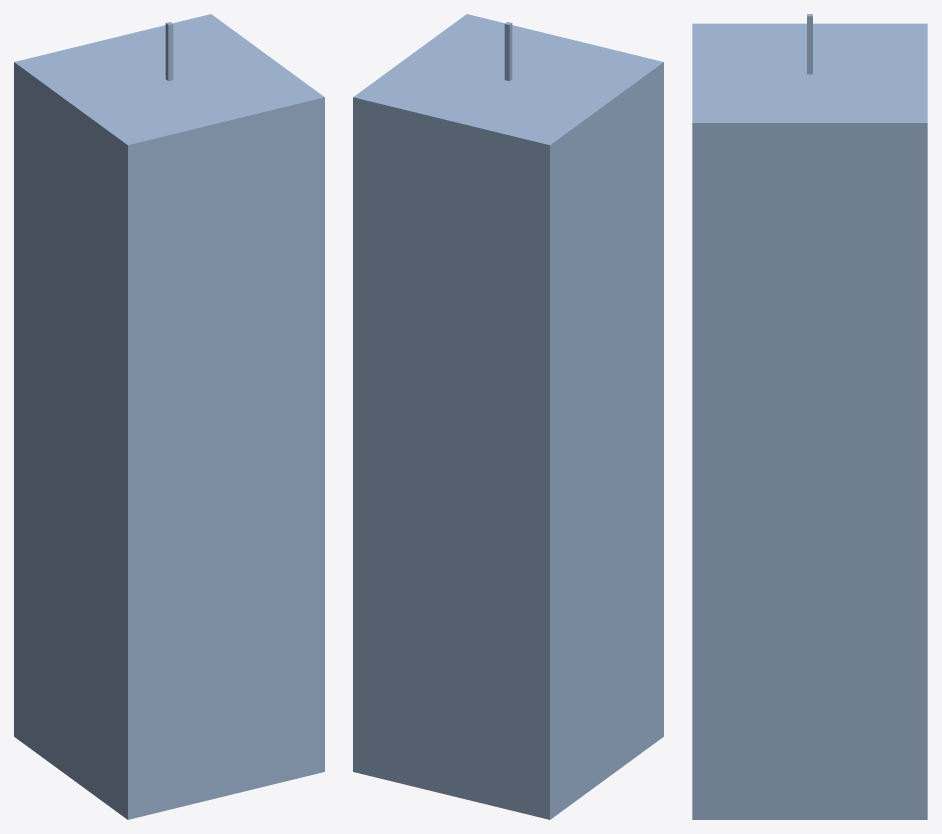
File: sky2_plain.glb
The picture shows the model from 3 angles, left to right: view 1: azimuth 30°, elevation 25°; view 2: azimuth 150°, elevation 25°; view 3: azimuth 270°, elevation 25°; orthographic projection. The views are drawn at different scales.
Visible parts, largest first — view 1: sky2_plain; view 2: sky2_plain; view 3: sky2_plain.
Part boxes in pixels (box(x1,y1,x2,y2)): sky2_plain: box(14, 14, 324, 819); sky2_plain: box(353, 14, 663, 819); sky2_plain: box(692, 14, 927, 819).
Size of the model in its own units: 1.65 by 5.85 by 1.65.
